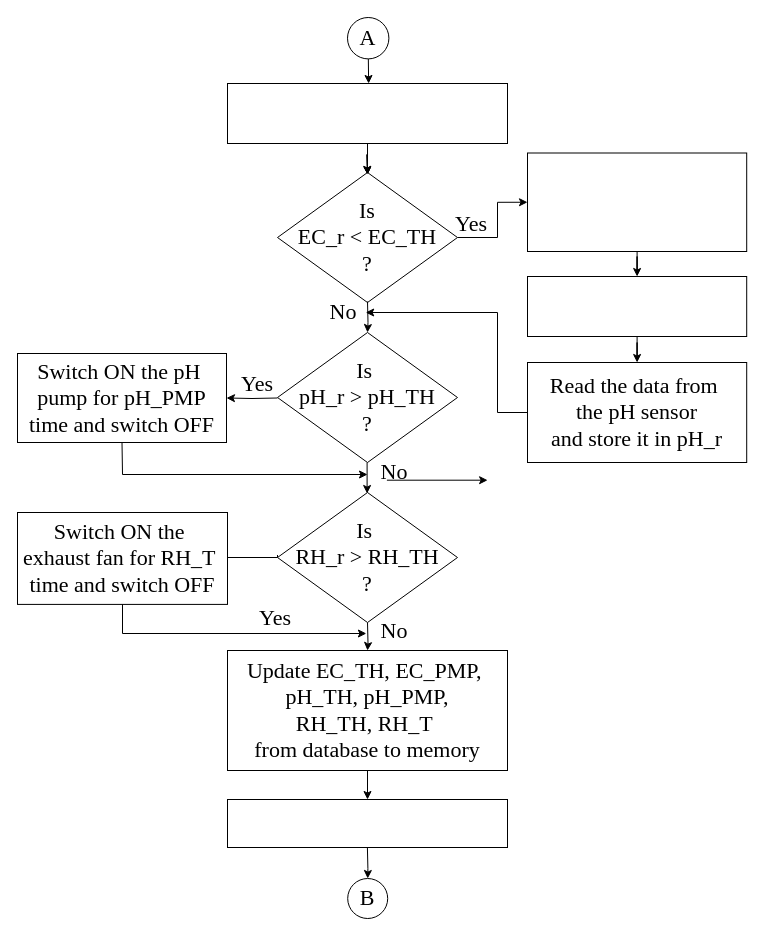
Image size: 765x936. Some labels were removed from this diagram. Each missing label, with the box of its shape:
Delay 10 minutes: (226, 798, 508, 848)
Delay 5 minutes for stabilization: (526, 276, 747, 336)
Log recorded data into the Database: (226, 82, 508, 144)
Switch ON the EC pump for EC_PMP time and switch OFF: (526, 152, 747, 252)
